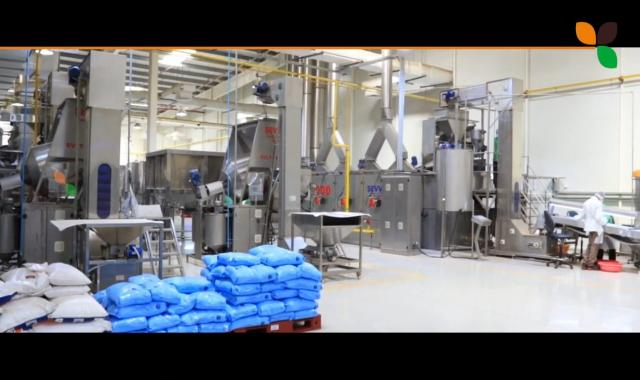hairnet: (594, 188, 604, 198)
